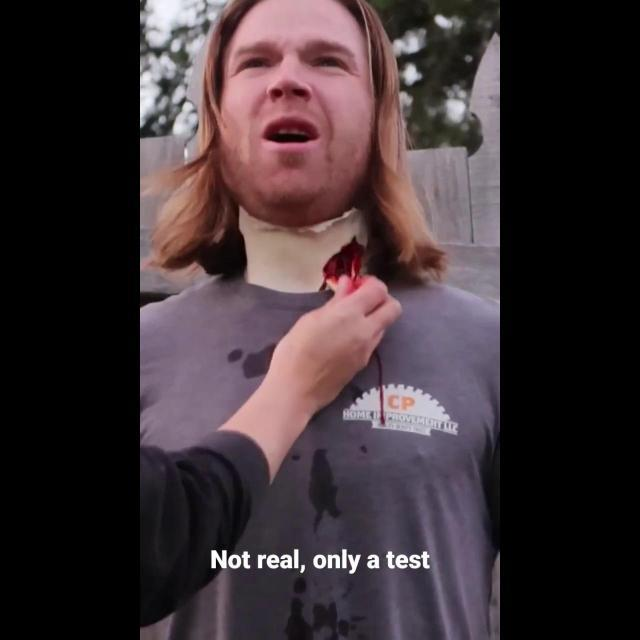blood: (323, 236, 364, 291), (374, 349, 386, 427)
